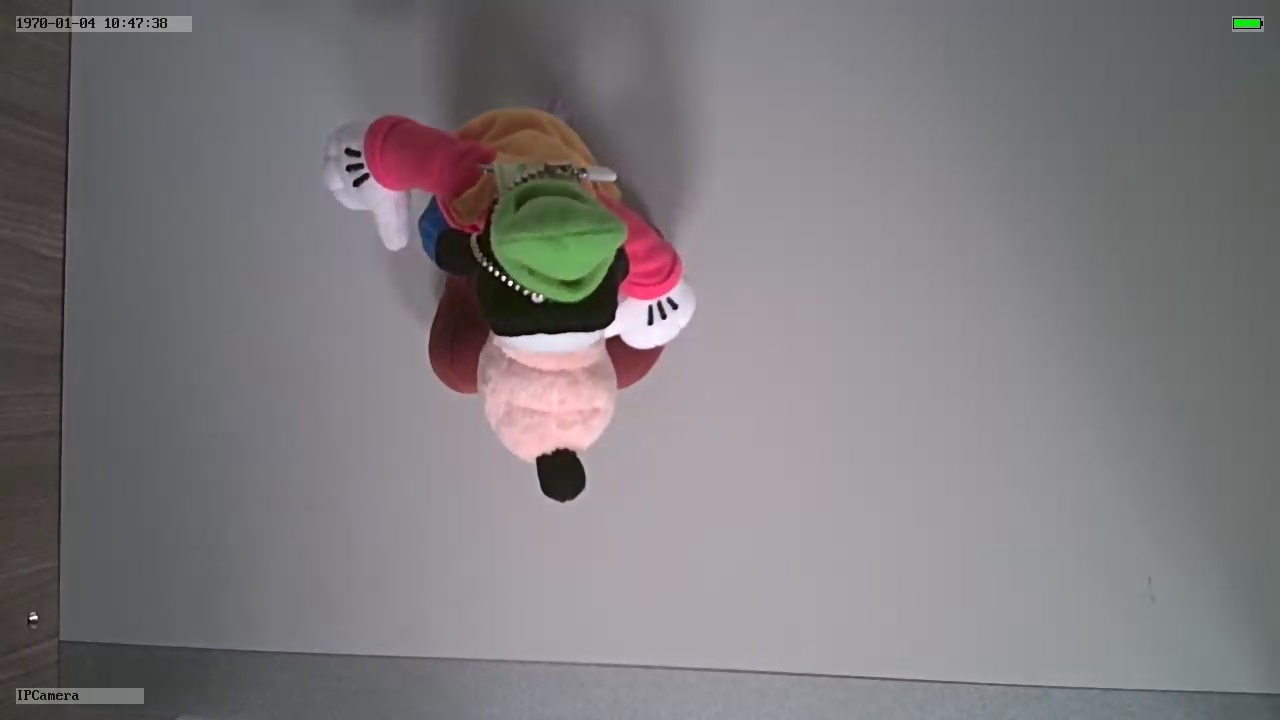goofy: (326, 101, 701, 504)
